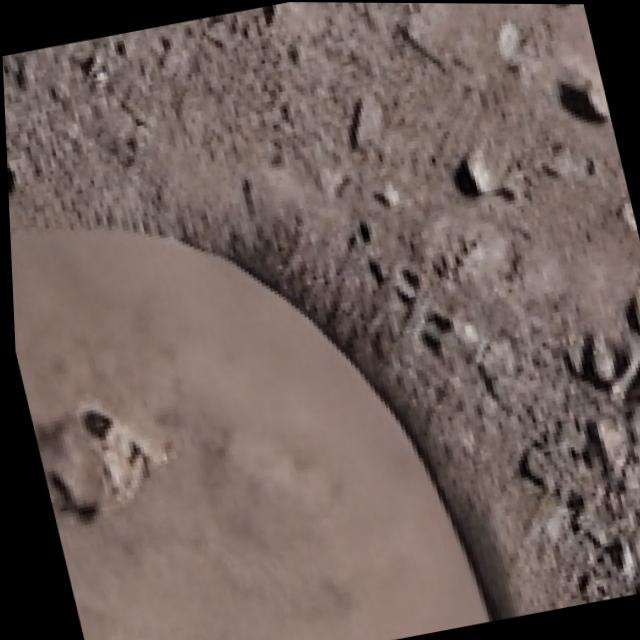Crater: (4, 115, 518, 640)
